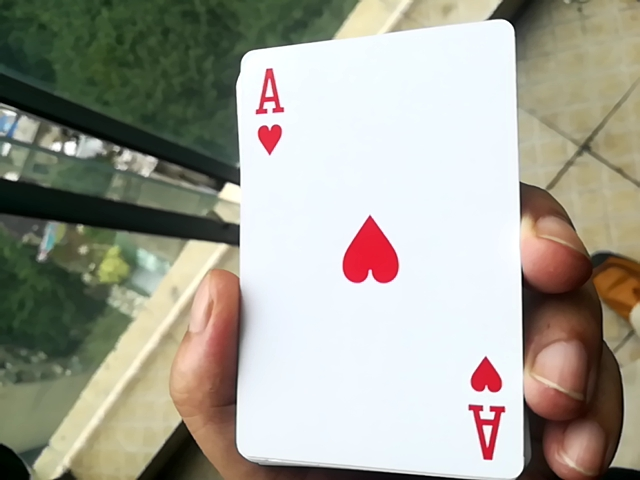hx a: (218, 33, 544, 480)
